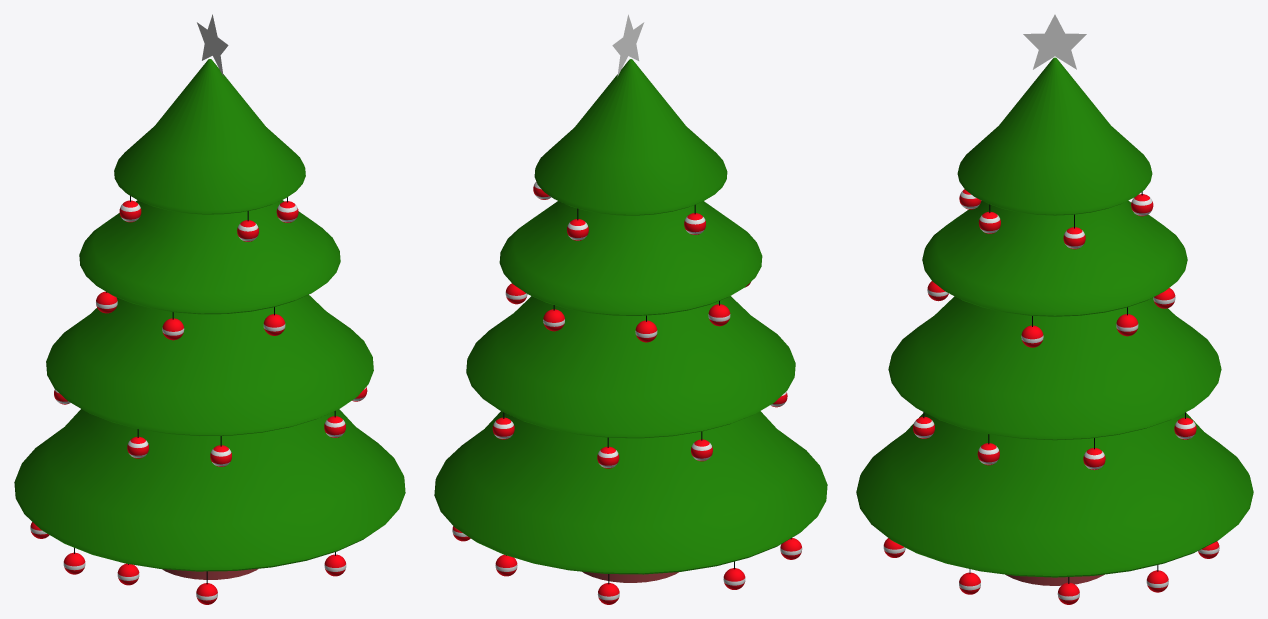
File: sapin.fbx
3 renders of one model, left to right at view 1: azimuth 30°, elevation 25°; view 2: azimuth 150°, elevation 25°; view 3: azimuth 270°, elevation 25°, orthographic.
Visible parts, largest first — view 1: Sphere; view 2: Sphere; view 3: Sphere.
Boxes of the visible parts, x1,y1,x2,y2 form: Sphere: (14, 14, 405, 604); Sphere: (434, 14, 827, 604); Sphere: (856, 14, 1253, 604).
Bounding box in the file's own units: 295 × 449 × 295.
